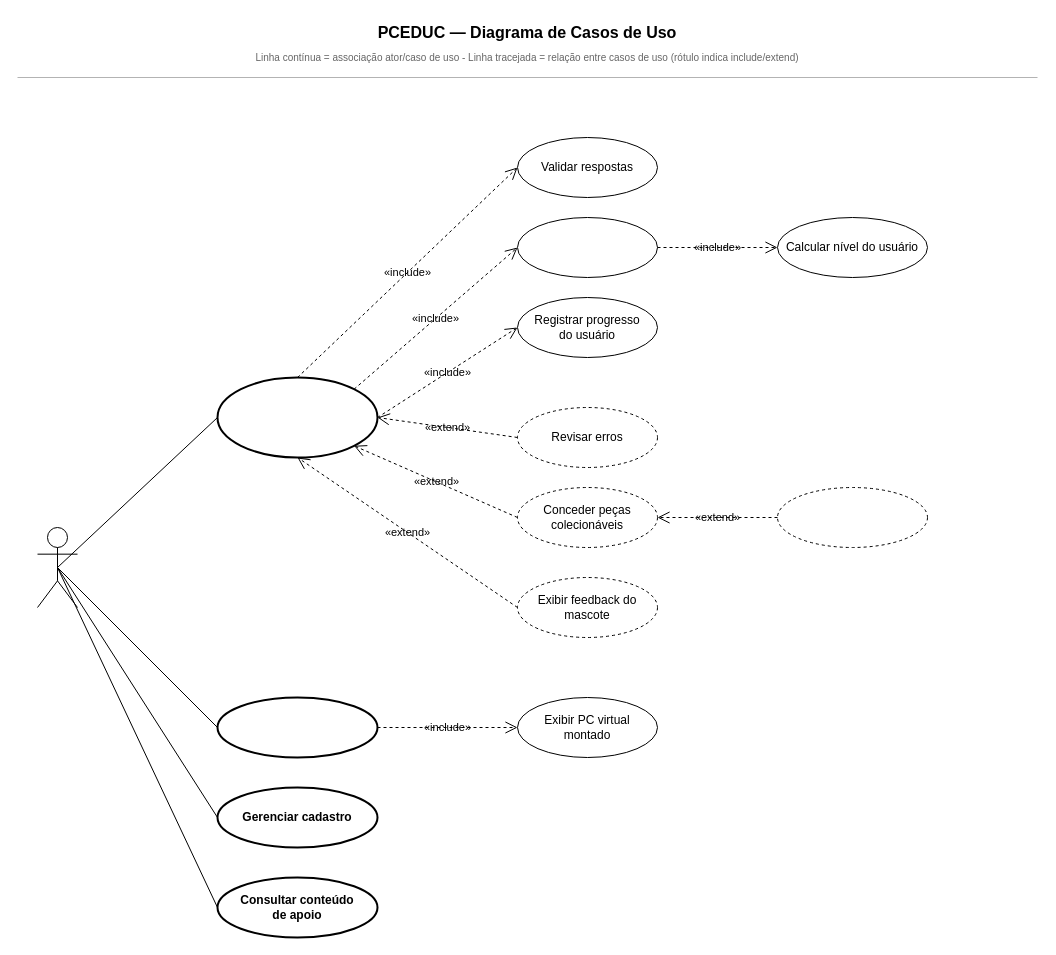
The diagram is 1056 pixels wide and 955 high, and some of its shapes have lost their labels. The centre of each missing label's shape, as x and y in pixels:
Acompanhar progresso: [297,727]
Conceder peça rara ("baú"): [852,517]
Conceder XP por acerto: [587,247]
Estudar trilha de aprendizado: [297,417]
Usuário: [57,567]
